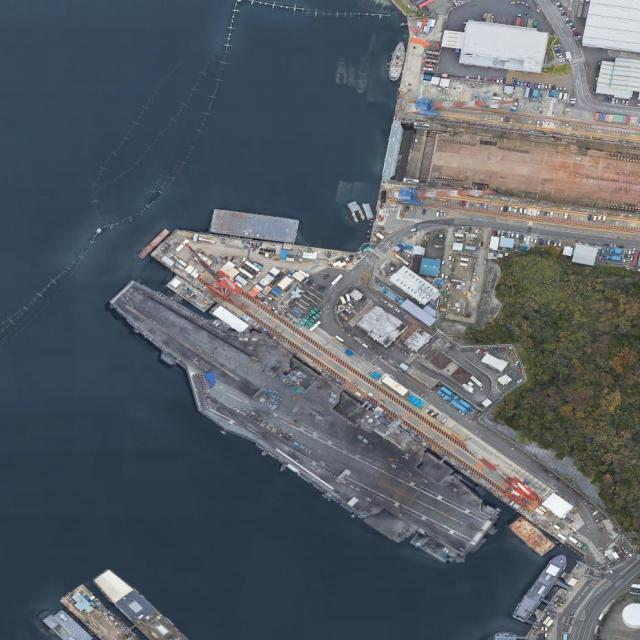Aircraft Carrier: (87, 252, 510, 589)
Other Ship: (387, 41, 409, 83)
Other Warship: (511, 548, 571, 628)
